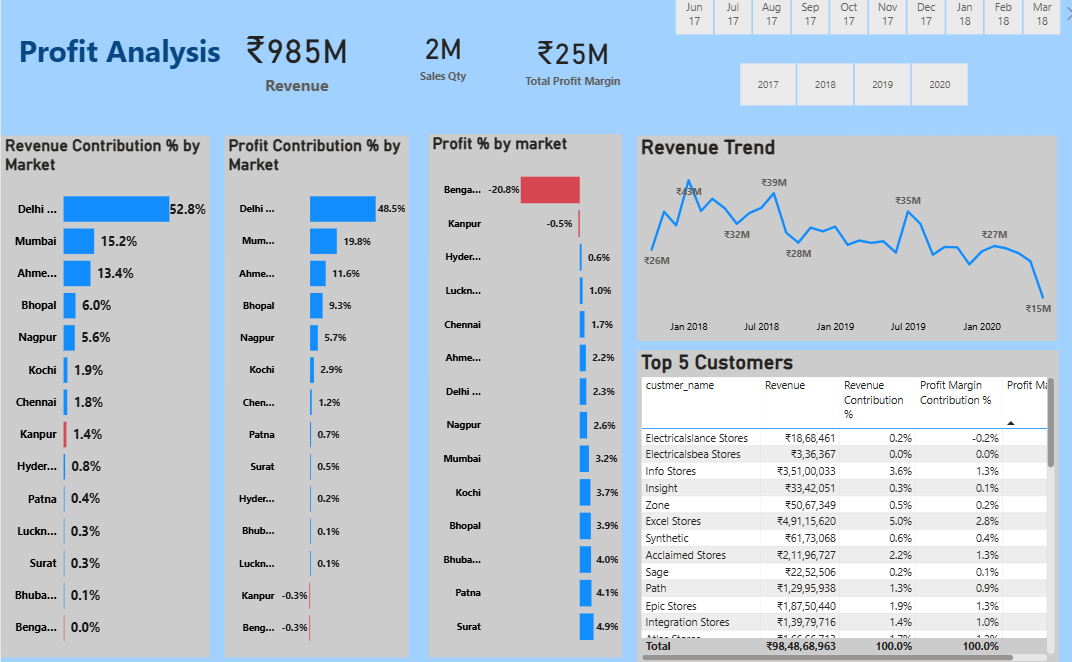

What the dashboard file says about the page in this screenshot:
{"tool":"powerbi","page":{"name":"Profit Analysis","canvas":[1350,850],"ordinal":1},"visuals":[{"type":"card","fields":{"Values":["BaseMeasures (2).Revenue"]},"box":[279.8,13.1,180.3,152.1],"z":0},{"type":"card","fields":{"Values":["BaseMeasures (2).Sales Qty"]},"box":[471.3,30,163.4,105.2],"z":1000},{"type":"barChart","title":"Profit % by market","fields":{"Y":["BaseMeasures (2).Profit Margin %"],"Category":["sales markets.markets_name"]},"box":[535.2,184,242.2,655.4],"z":2000},{"type":"barChart","title":"Profit Contribution % by Market","fields":{"Y":["BaseMeasures (2).Profit Margin Contribution %"],"Category":["sales markets.markets_name"]},"box":[279.8,185.9,231,653.5],"z":3000},{"type":"slicer","fields":{"Values":["sales date.year"]},"box":[900.4,87.9,334.5,66.9],"z":4000},{"type":"slicer","fields":{"Values":["sales date.cy_date"]},"box":[818.6,0,531.7,66.5],"z":5000},{"type":"tableEx","title":"Top 5 Customers","fields":{"Values":["sales customers.custmer_name","BaseMeasures (2).Revenue","BaseMeasures (2).Revenue Contribution %","BaseMeasures (2).Profit Margin Contribution %","BaseMeasures (2).Profit Margin %"]},"box":[796.2,454.4,527.7,394.3],"z":6000},{"type":"lineChart","title":"Revenue Trend","fields":{"Y":["BaseMeasures (2).Revenue"],"Category":["sales date.cy_date"]},"box":[796.2,185.9,525.8,257.3],"z":7000},{"type":"card","fields":{"Values":["BaseMeasures (2).Total Profit Margin"]},"box":[634.7,30,161.5,118.3],"z":8000},{"type":"barChart","title":"Revenue Contribution % by Market","fields":{"Y":["BaseMeasures (2).Revenue Contribution %"],"Category":["sales markets.markets_name"]},"box":[0,185.9,261,653.5],"z":9000},{"type":"textbox","box":[16.9,48.8,279.8,65.7],"z":9001}]}

Visuals, with their boxes in screenshot pixels (x1, y1, x2, y2), scaled from the page's 1350x850 canvas onto the 1072x662 screenshot:
card - BaseMeasures (2).Revenue: 222/10/365/129
card - BaseMeasures (2).Sales Qty: 374/23/504/105
"Profit % by market" barChart: 425/143/617/654
"Profit Contribution % by Market" barChart: 222/145/406/654
slicer - sales date.year: 715/68/981/121
slicer - sales date.cy_date: 650/0/1071/52
"Top 5 Customers" tableEx: 632/354/1051/661
"Revenue Trend" lineChart: 632/145/1050/345
card - BaseMeasures (2).Total Profit Margin: 504/23/632/115
"Revenue Contribution % by Market" barChart: 0/145/207/654
textbox: 13/38/236/89
